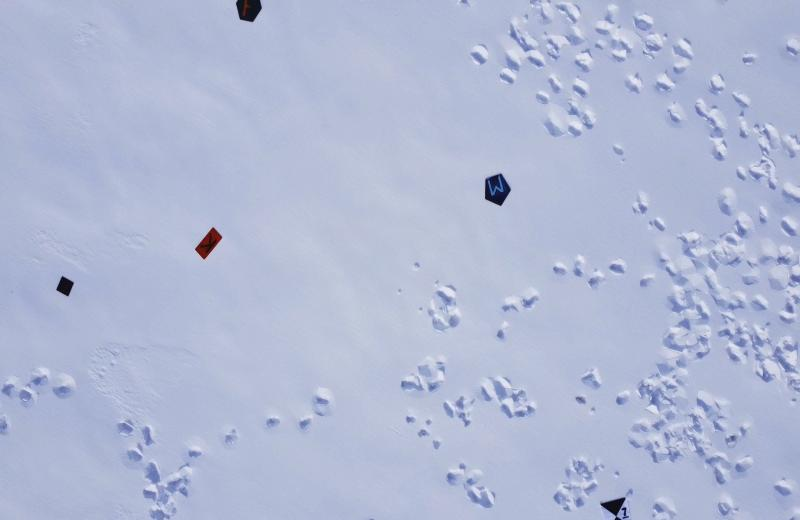Hexagon: (232, 0, 263, 23)
Pentagon: (480, 171, 514, 210)
Rectangle: (193, 224, 224, 260)
Square: (55, 274, 74, 300)
